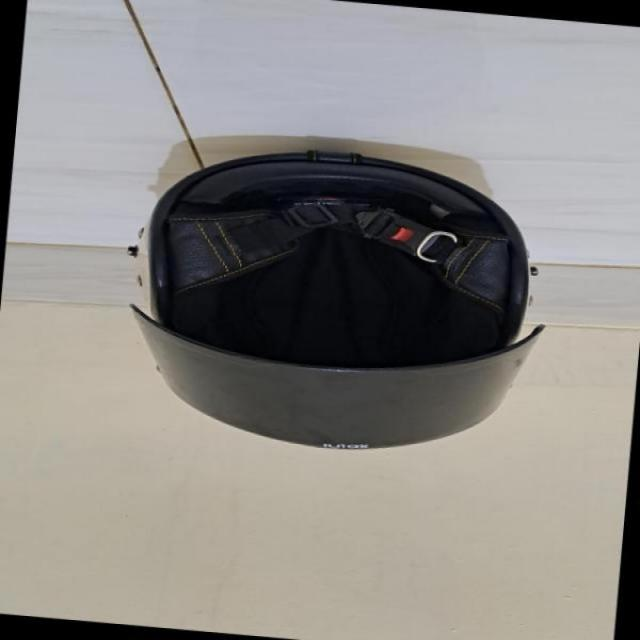Helmet: (130, 128, 543, 470)
